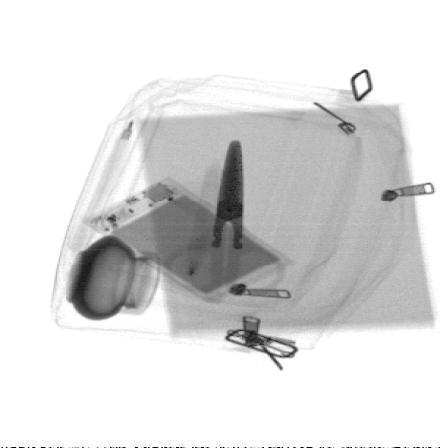Powerbank: (79, 172, 298, 307)
Scissors: (160, 141, 288, 299)
